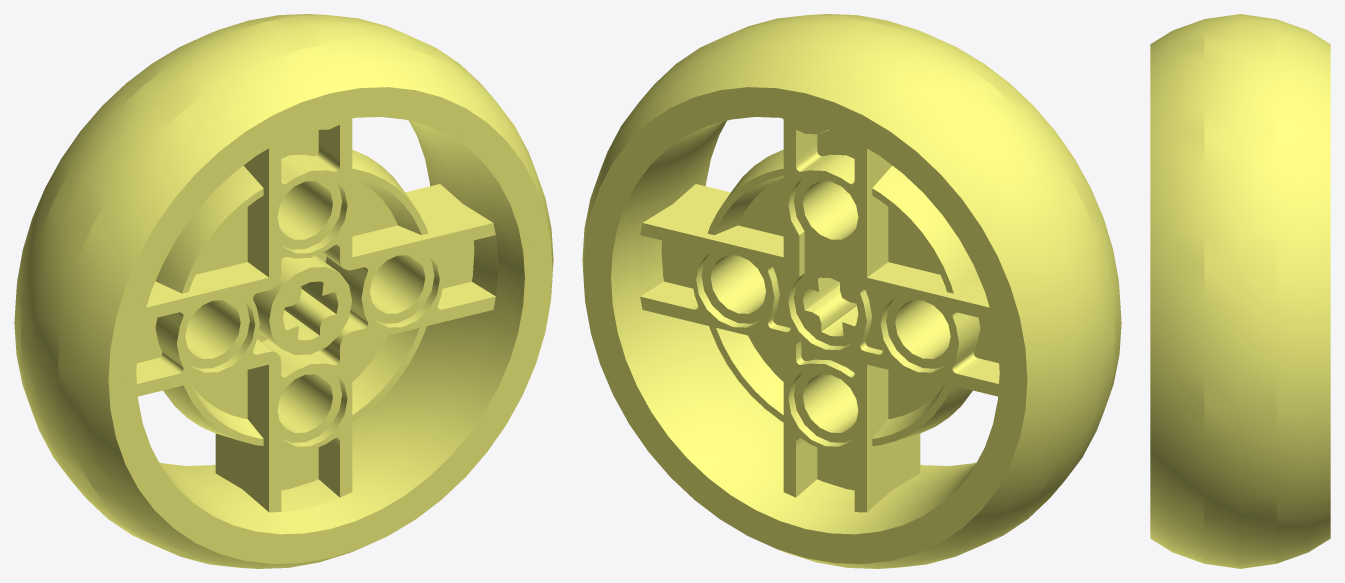
3 renders of one model, left to right at view 1: azimuth 30°, elevation 25°; view 2: azimuth 150°, elevation 25°; view 3: azimuth 270°, elevation 25°, orthographic. The views are drawn at different scales.
Parts seen in each view (by area): view 1: 65834.dat; view 2: 65834.dat; view 3: 65834.dat.
Boxes of the visible parts, x1=… form: 65834.dat: x1=14, y1=14, x2=553, y2=568; 65834.dat: x1=582, y1=14, x2=1121, y2=568; 65834.dat: x1=1150, y1=14, x2=1330, y2=568.
Size of the model in its own units: 0.0432 by 0.0432 by 0.014.
